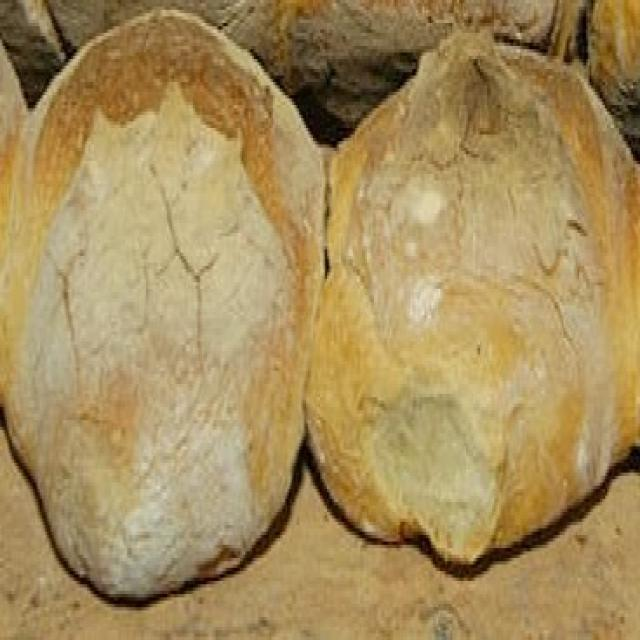Maltese-Bread: (2, 13, 322, 594), (306, 30, 638, 561)
